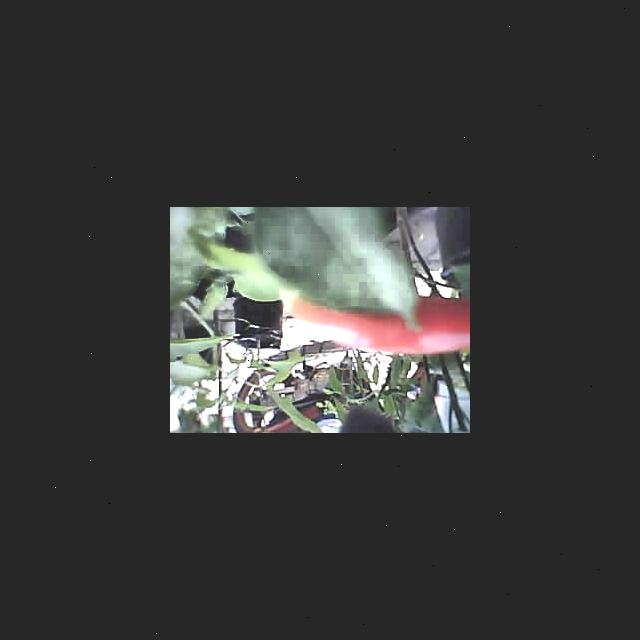Cabai: (296, 299, 470, 362)
